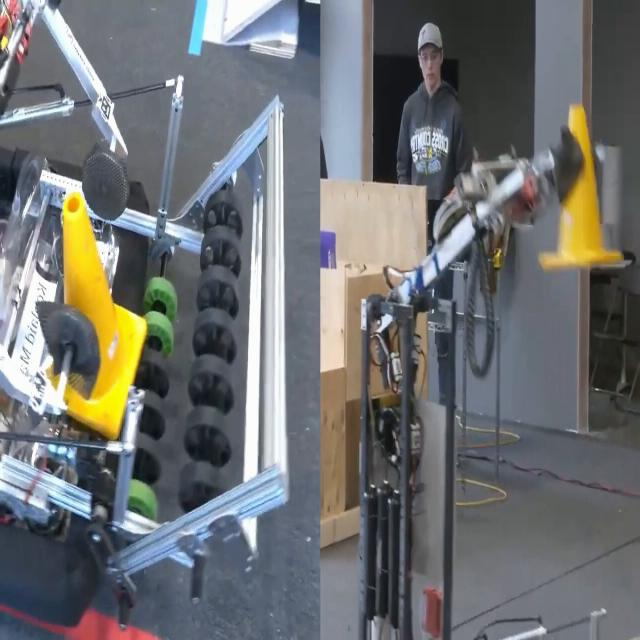frc_cone: (56, 191, 140, 425), (544, 104, 612, 269)
frc_cube: (321, 222, 339, 277)
